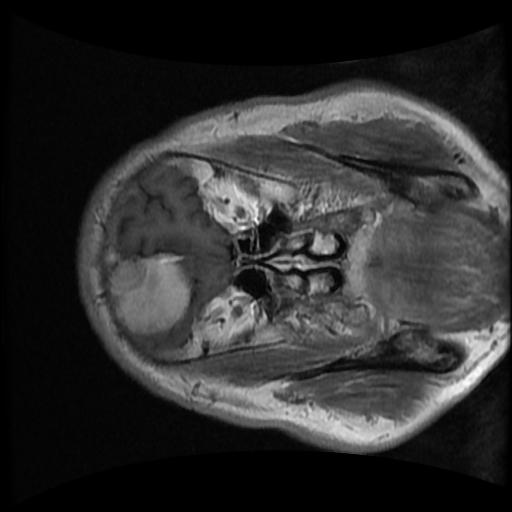meningioma: (109, 251, 191, 335)
